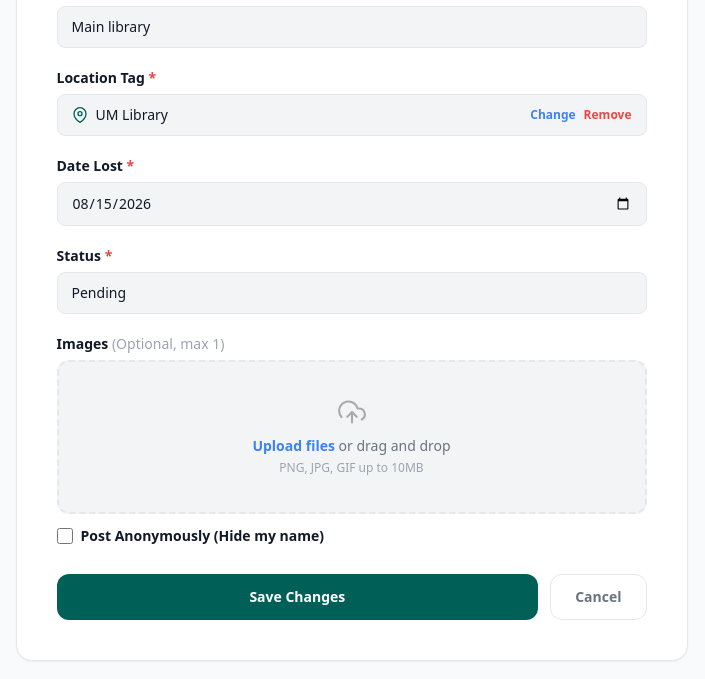
ReportLostItemPage - admin edit › displays the server error when the update fails
(page scrolled)
Click the button "Save Changes". click: click(297, 597)
box: left=56, top=574, right=538, bottom=620
(page scrolled)
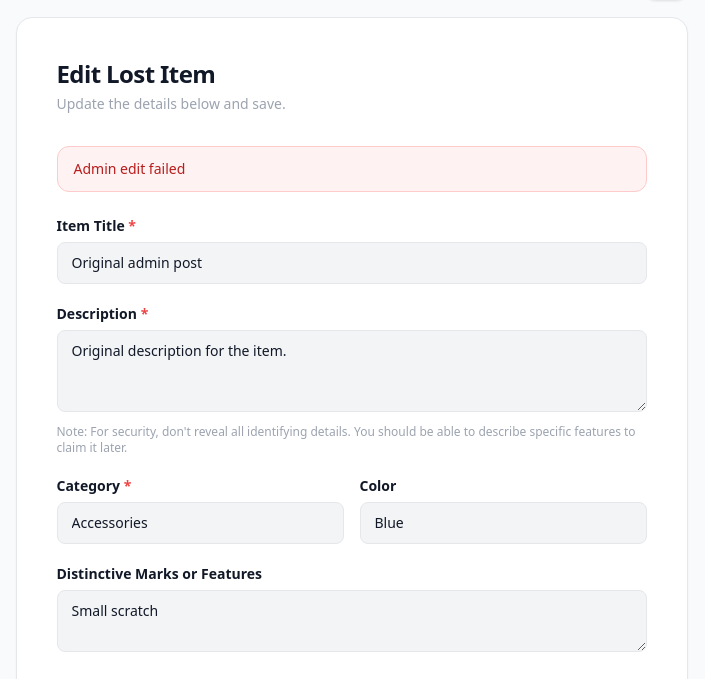
Now the text "Admin edit failed" is shown, box left=56, top=146, right=646, bottom=192
